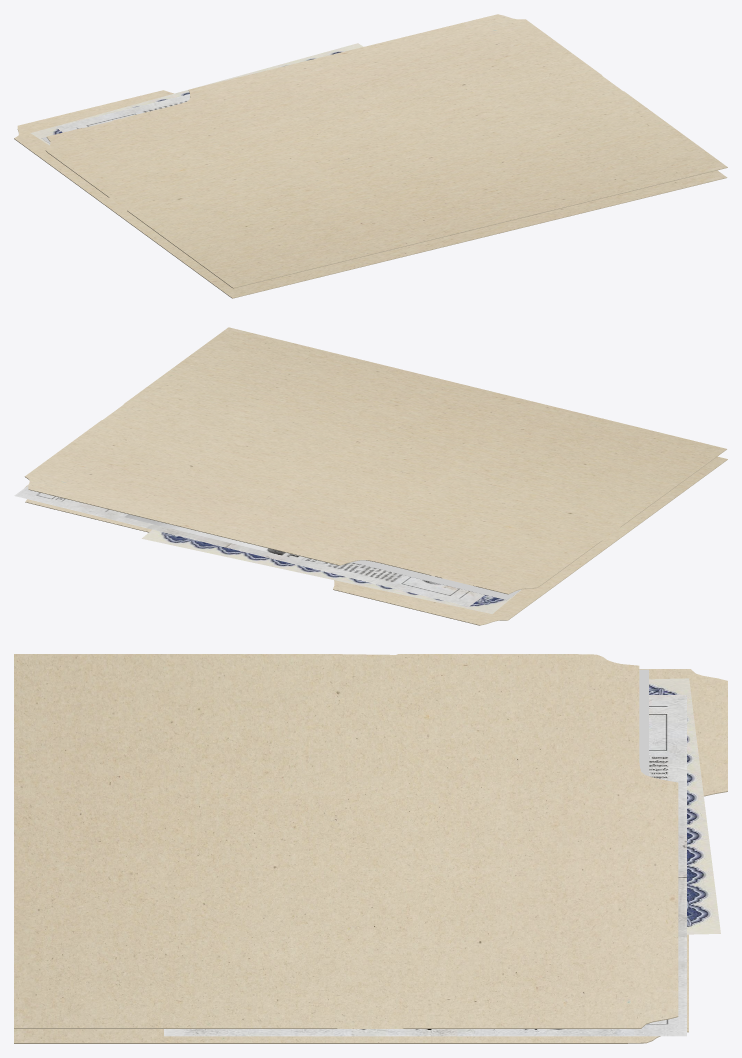
File: folder.glb
The picture shows the model from 3 angles, top to bottom: view 1: azimuth 30°, elevation 25°; view 2: azimuth 150°, elevation 25°; view 3: azimuth 270°, elevation 25°; orthographic projection. The views are drawn at different scales.
Visible parts, largest first — view 1: front, back, blueFramed, newspaper; view 2: front, newspaper, back, blueFramed, mainPaper; view 3: front, back, newspaper, blueFramed, mainPaper.
Part boxes in pixels (x1,y1,x2,y2): front: [45, 14, 727, 288]; back: [14, 90, 727, 298]; blueFramed: [30, 43, 363, 145]; newspaper: [55, 94, 189, 132]; front: [24, 327, 726, 594]; newspaper: [14, 485, 484, 606]; back: [25, 456, 727, 625]; blueFramed: [142, 529, 521, 613]; mainPaper: [352, 560, 520, 600]; front: [14, 654, 678, 1028]; back: [14, 669, 727, 1043]; newspaper: [164, 695, 686, 1036]; blueFramed: [649, 678, 720, 934]; mainPaper: [639, 669, 648, 775].
Bounding box in the file's own units: 10.78 × 0.2183 × 8.68.
Materials: 4 (3 with a texture image).
